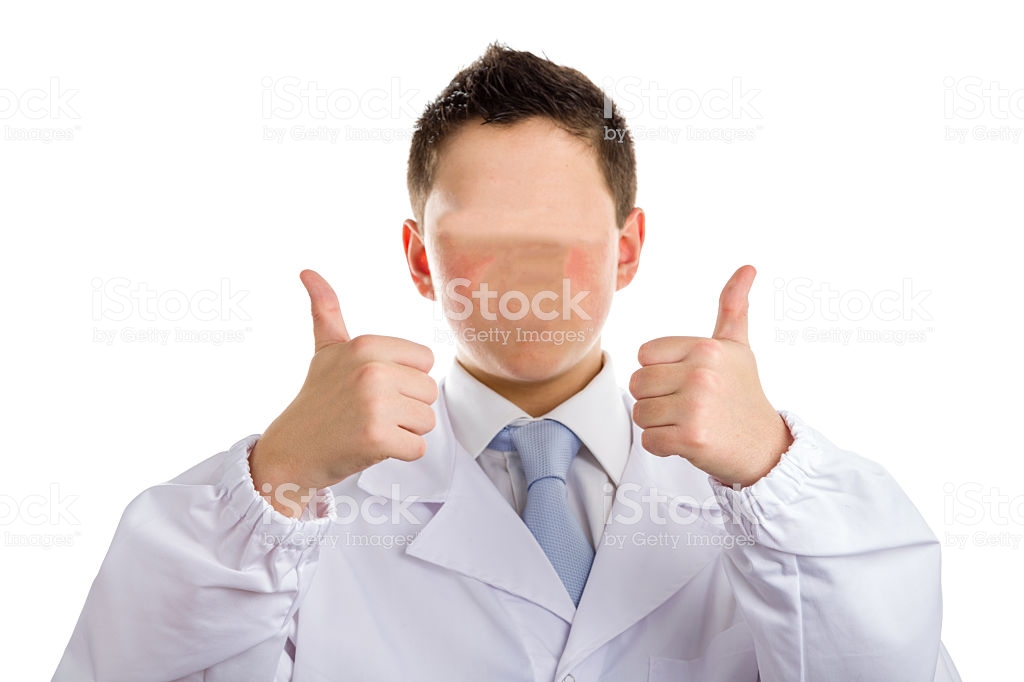thumbsup: (298, 266, 438, 466), (628, 262, 757, 461)
